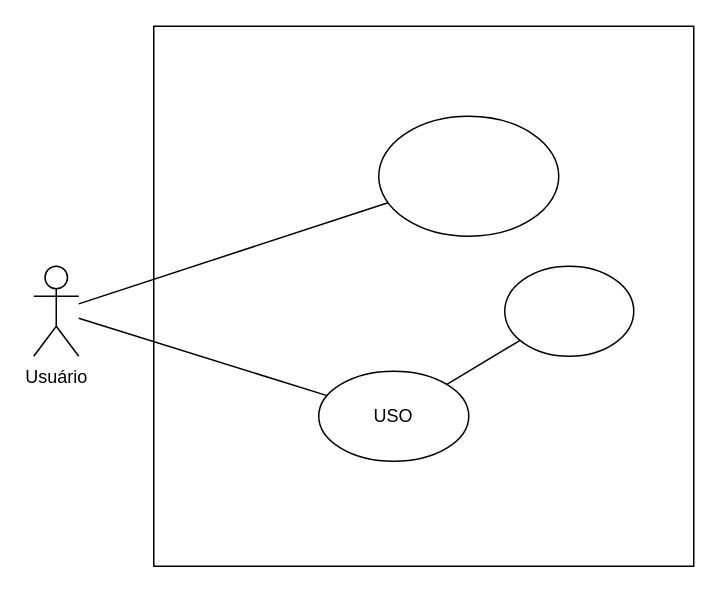
Image size: 720x593. Some labels were removed from this diagram. Each missing label, with the centre of its shape:
AVISO: point 568,310
CONSULTA: point 468,175
